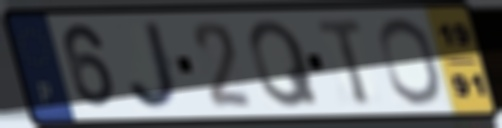2: (192, 19, 255, 109)
6: (61, 21, 119, 114)
J: (124, 19, 185, 113)
O: (375, 14, 446, 107)
Q: (246, 17, 323, 111)
T: (314, 16, 377, 109)
